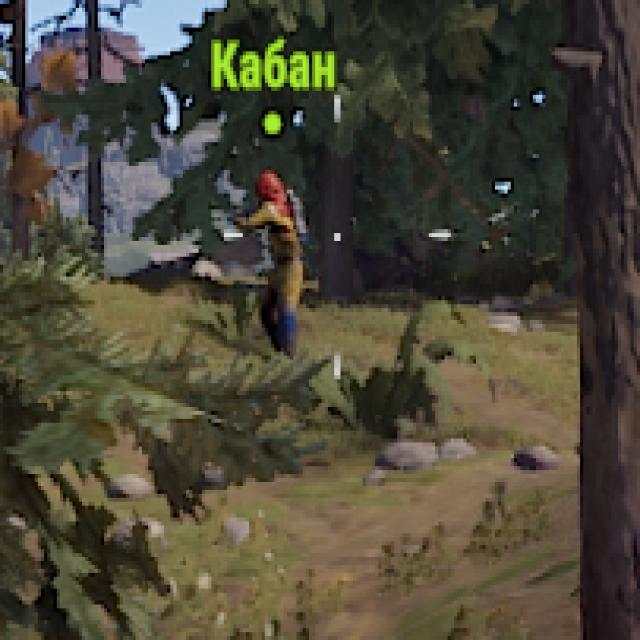Player: (246, 171, 308, 352)
